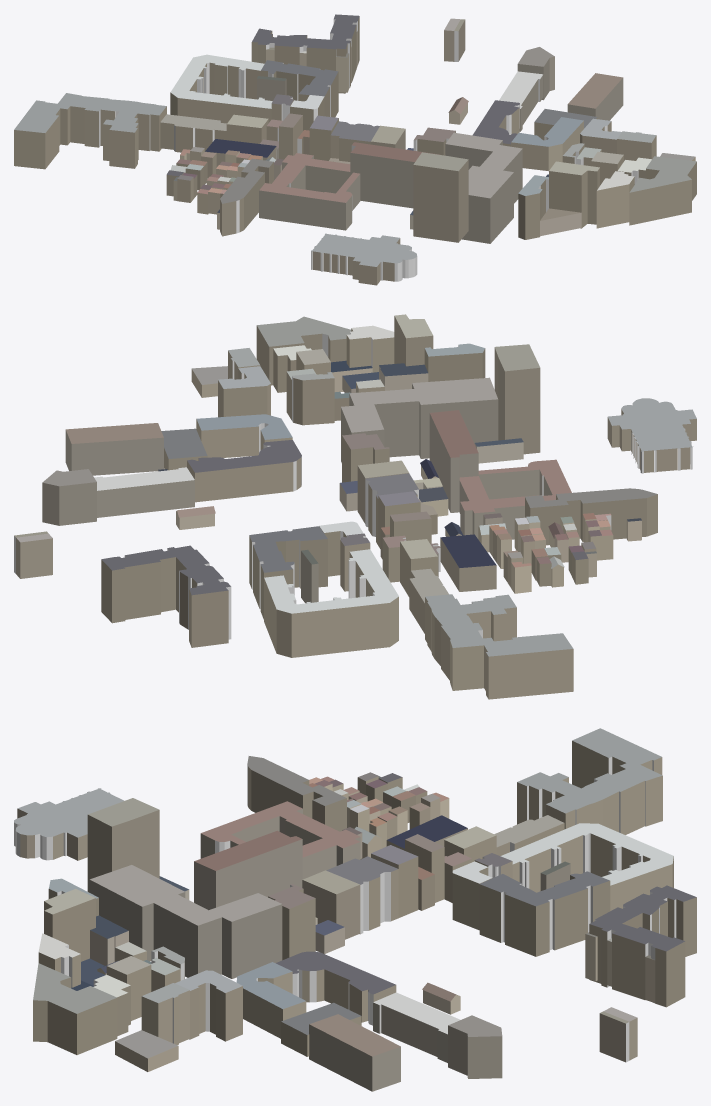
3 views of the same model, one above another, from view 1: azimuth 30°, elevation 25°; view 2: azimuth 150°, elevation 25°; view 3: azimuth 270°, elevation 25° (orthographic). The views are drawn at different scales.
Parts seen in each view (by area): view 1: tuile; view 2: tuile; view 3: tuile.
Part boxes in pixels (<box>): tuile: <box>14,14,696,285</box>; tuile: <box>14,314,696,699</box>; tuile: <box>14,728,696,1091</box>.
Size of the model in its own units: 314 by 51.7 by 284.
